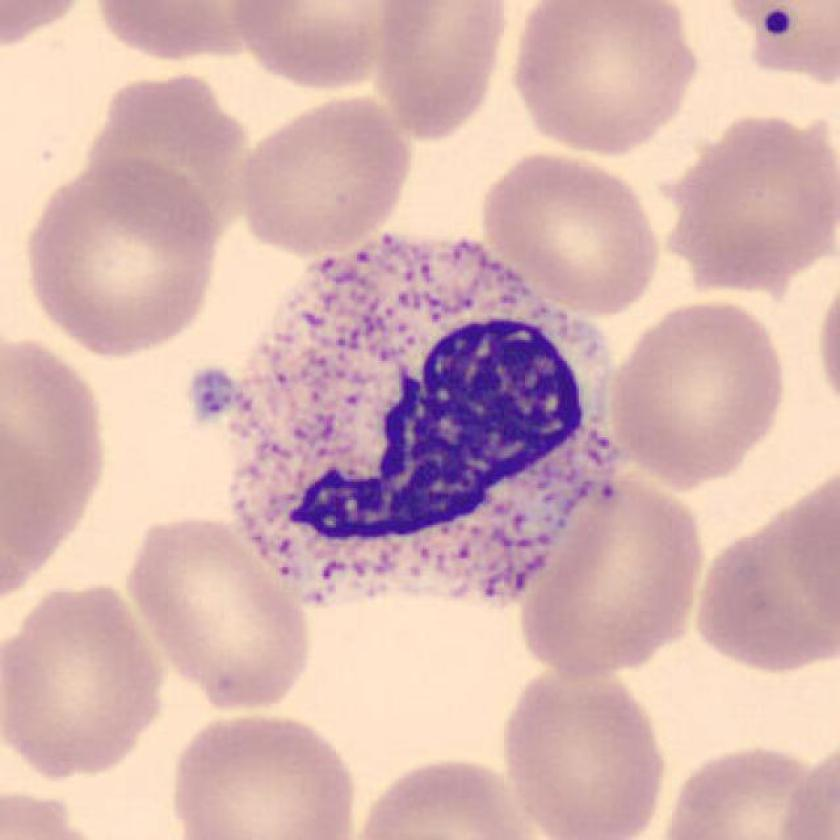neutrophil: (224, 239, 615, 612)
